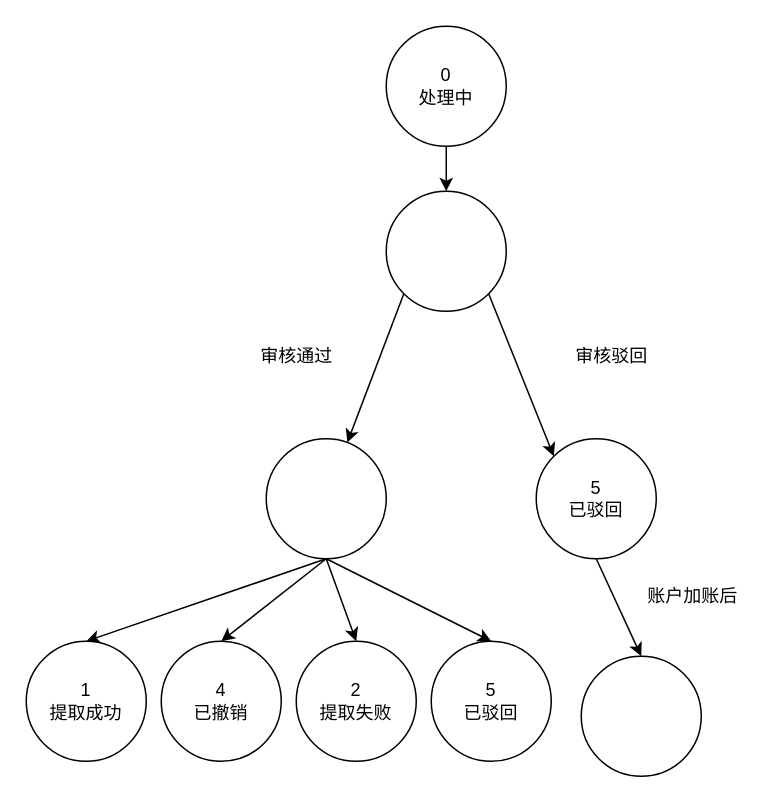
Image size: 779x803. Some labels were removed from this diagram. Each missing label, with the box of its shape:
6 待付款: (265, 437, 386, 559)
7 待审核: (385, 190, 506, 311)
8 已退还: (580, 655, 701, 776)
